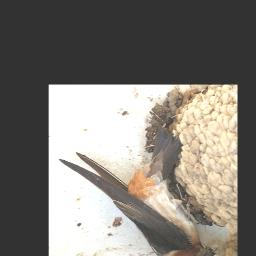Swallow: (57, 150, 215, 256)
